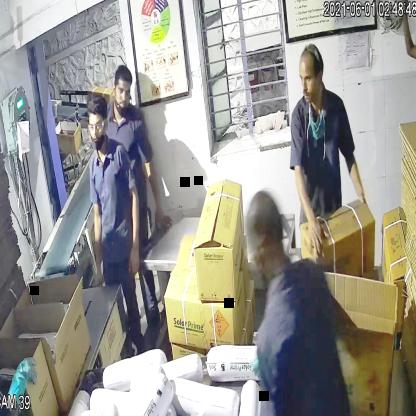goggles: (85, 118, 108, 140)
no_goggles: (295, 68, 328, 93), (112, 81, 134, 102)
